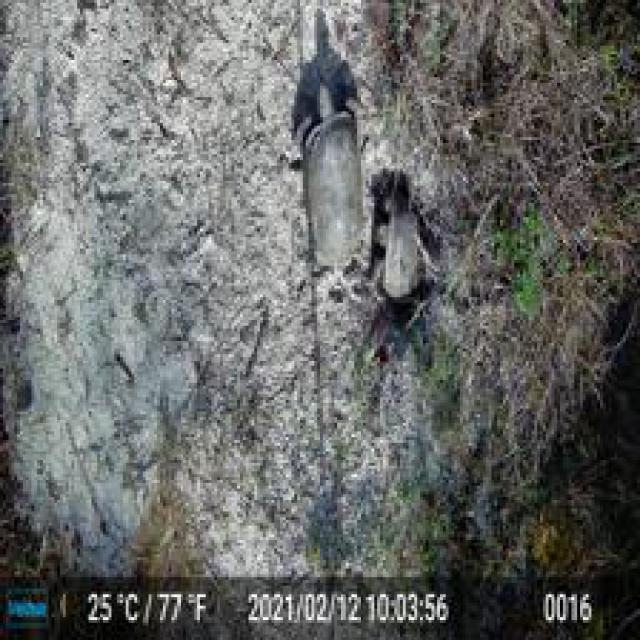tortoise: (291, 80, 366, 274), (372, 189, 428, 317)
